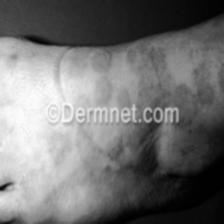Unclassified: (92, 52, 211, 102), (44, 125, 160, 175)
